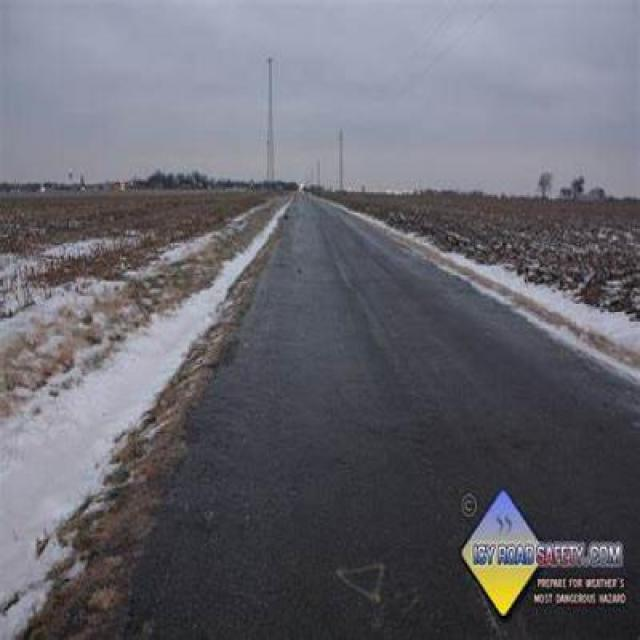ice-road: (131, 194, 640, 640), (140, 196, 640, 640)
